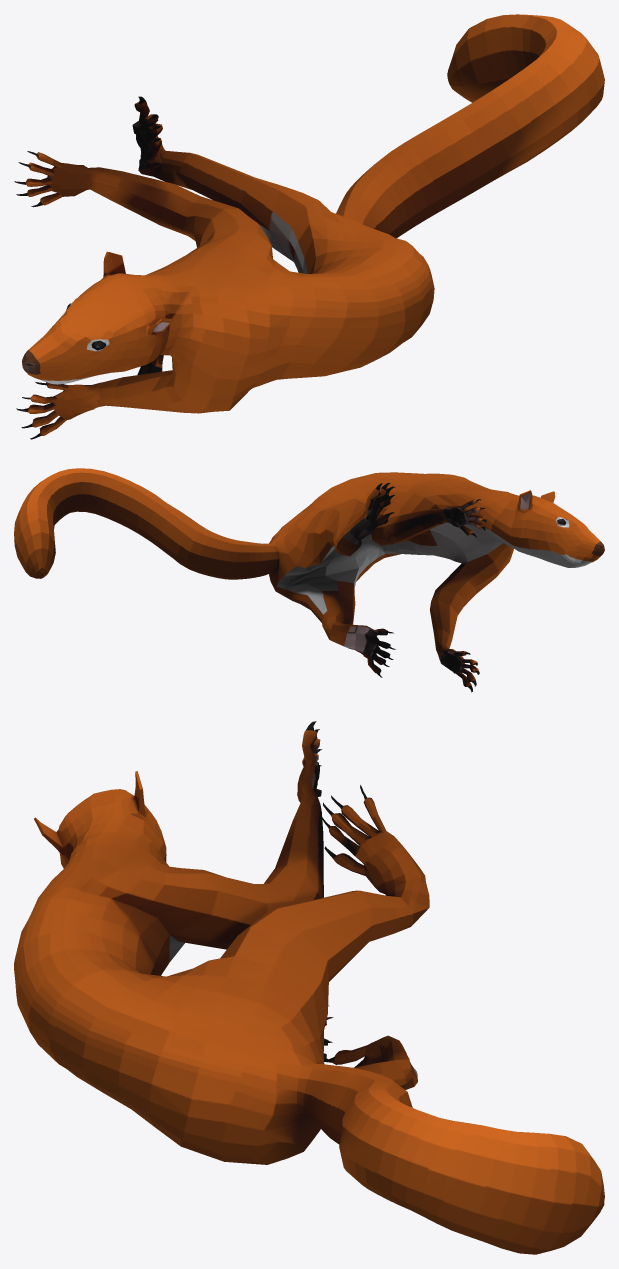
File: plesiadapis.glb
The picture shows the model from 3 angles, top to bottom: view 1: azimuth 30°, elevation 25°; view 2: azimuth 150°, elevation 25°; view 3: azimuth 270°, elevation 25°; orthographic projection. The views are drawn at different scales.
Size of the model in its own units: 0.5811 by 0.2303 by 0.3597.
1 material, 1 textured.
